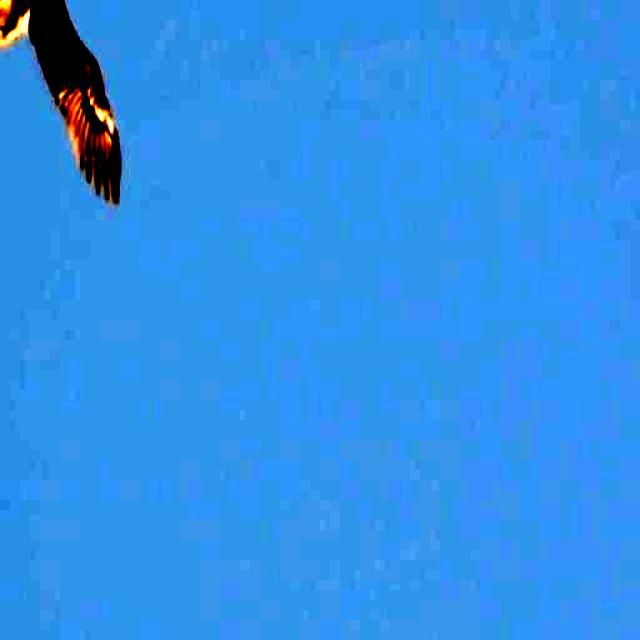airplane: (0, 0, 129, 200)
